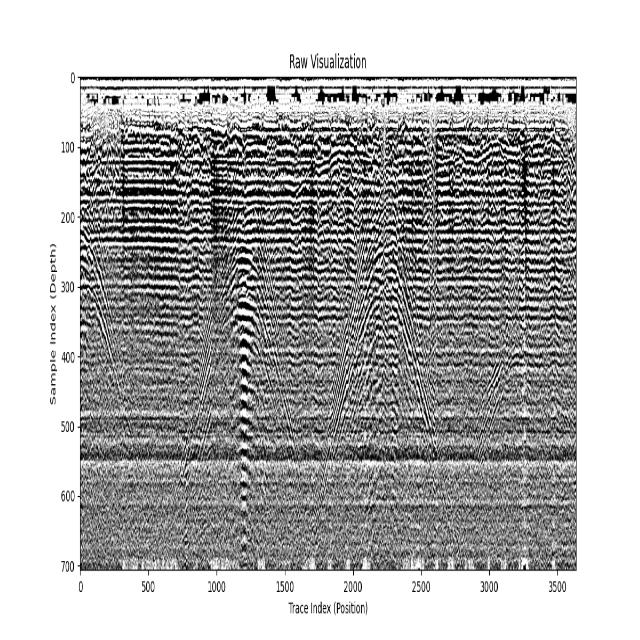anomaly: (318, 233, 448, 546), (165, 274, 310, 552), (81, 224, 123, 409), (471, 328, 531, 450)
